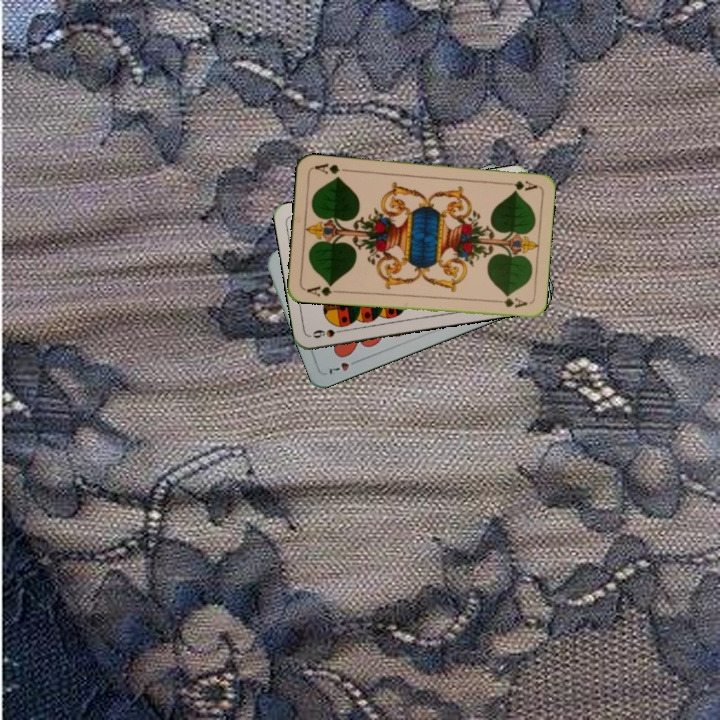GA: (303, 280, 342, 299), (499, 176, 539, 193)
H7: (325, 355, 362, 378)
S9: (308, 325, 349, 341)
